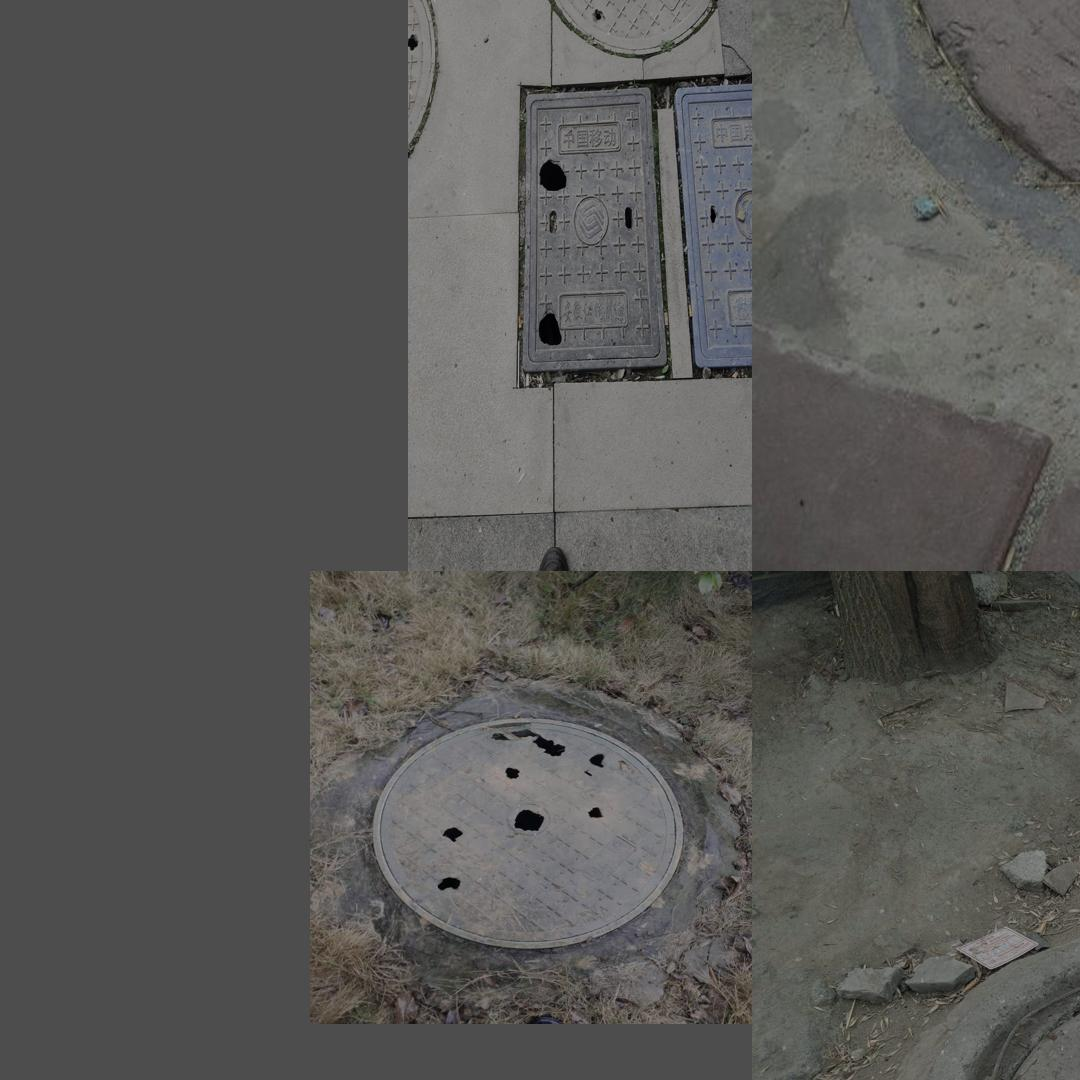broke: (372, 717, 683, 949), (860, 0, 1080, 315), (522, 82, 668, 366), (916, 923, 1080, 1080), (673, 82, 752, 367), (539, 0, 732, 55), (408, 0, 434, 163)
